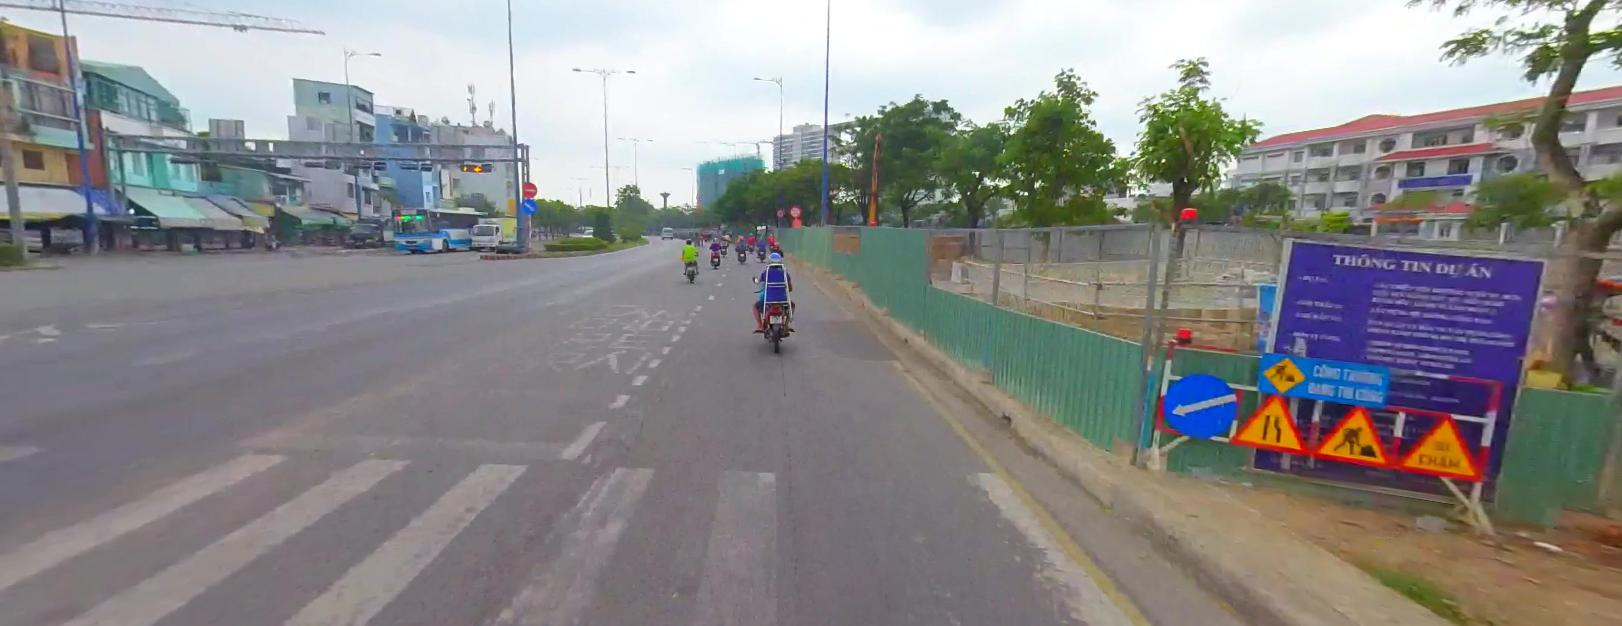Cam con lai: (789, 204, 800, 215)
Cam nguoc chieu: (519, 180, 537, 196)
Gioi han toc do: (774, 207, 784, 215)
Hieu lenh: (519, 198, 537, 212)
